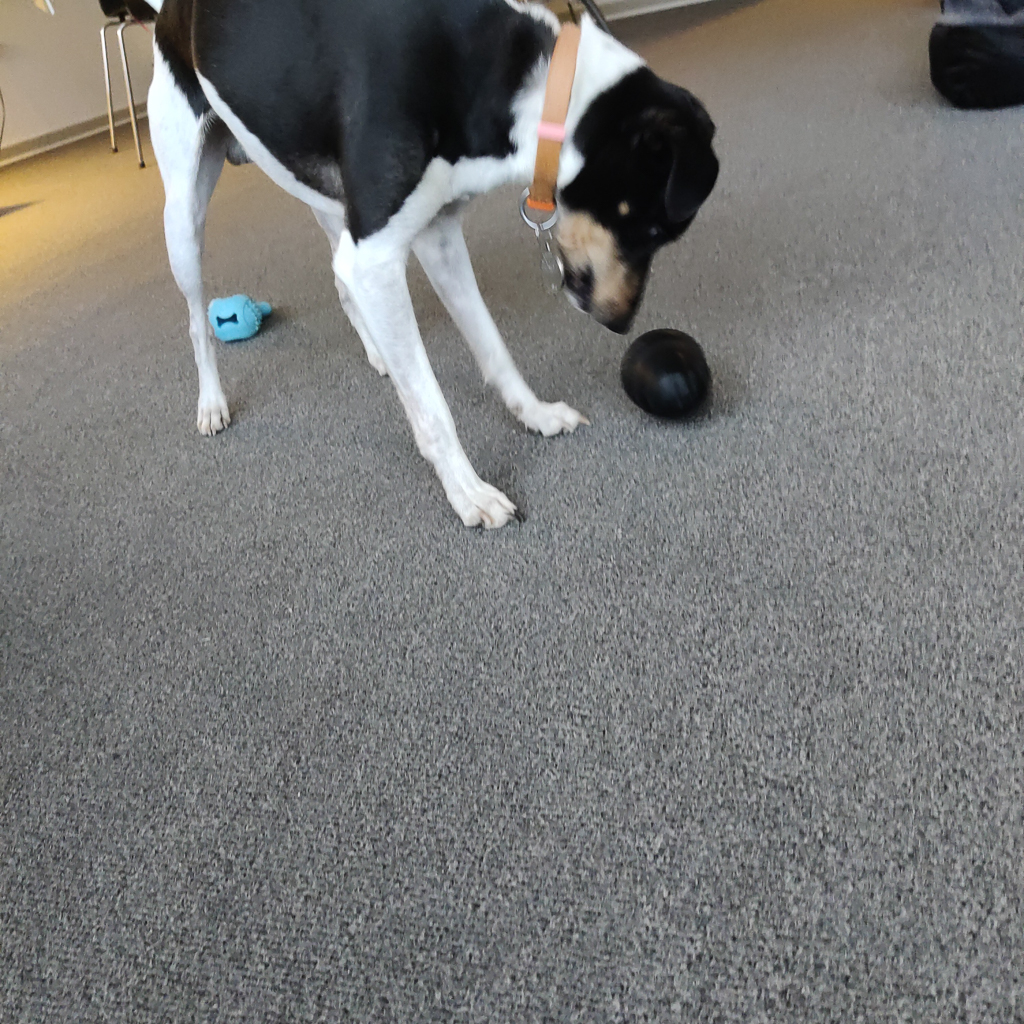Dog: (124, 0, 743, 554)
